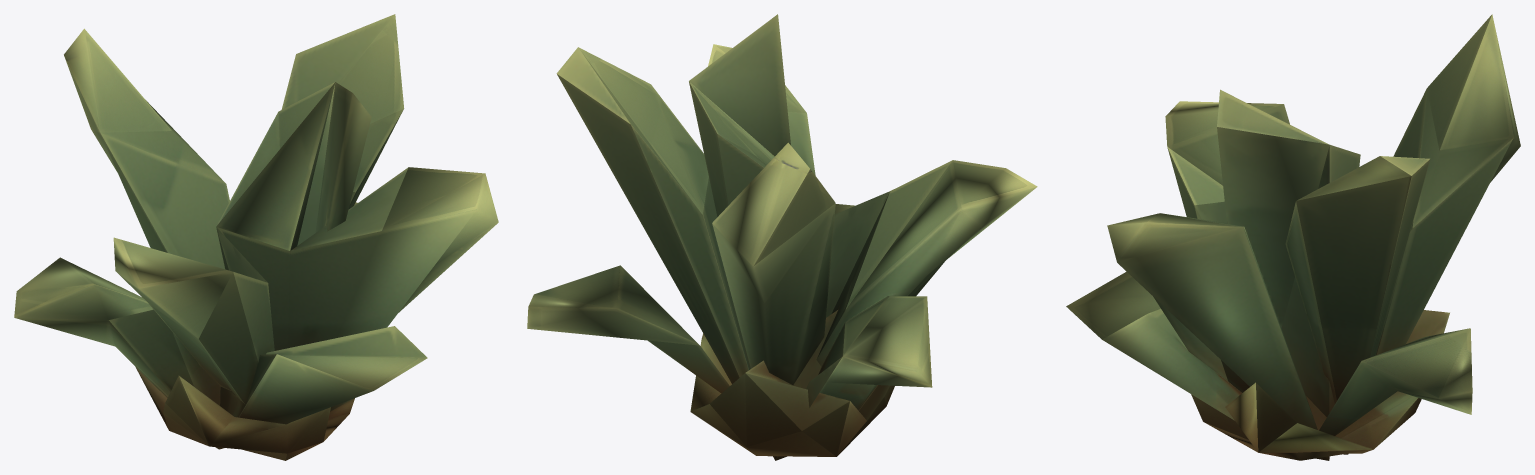
File: Meshy_AI_Stoneleaf_Succulent_0818121619_texture.fbx
3 views of the same model, side by side, from view 1: azimuth 30°, elevation 25°; view 2: azimuth 150°, elevation 25°; view 3: azimuth 270°, elevation 25° (orthographic). The views are drawn at different scales.
Parts seen in each view (by area): view 1: mesh_node; view 2: mesh_node; view 3: mesh_node.
Part boxes in pixels (x1,y1,x2,y2): mesh_node: (14,14,498,460); mesh_node: (527,14,1037,460); mesh_node: (1066,14,1520,460).
Size of the model in its own units: 31.22 by 30 by 30.98.
Materials: 1 (1 with a texture image).
